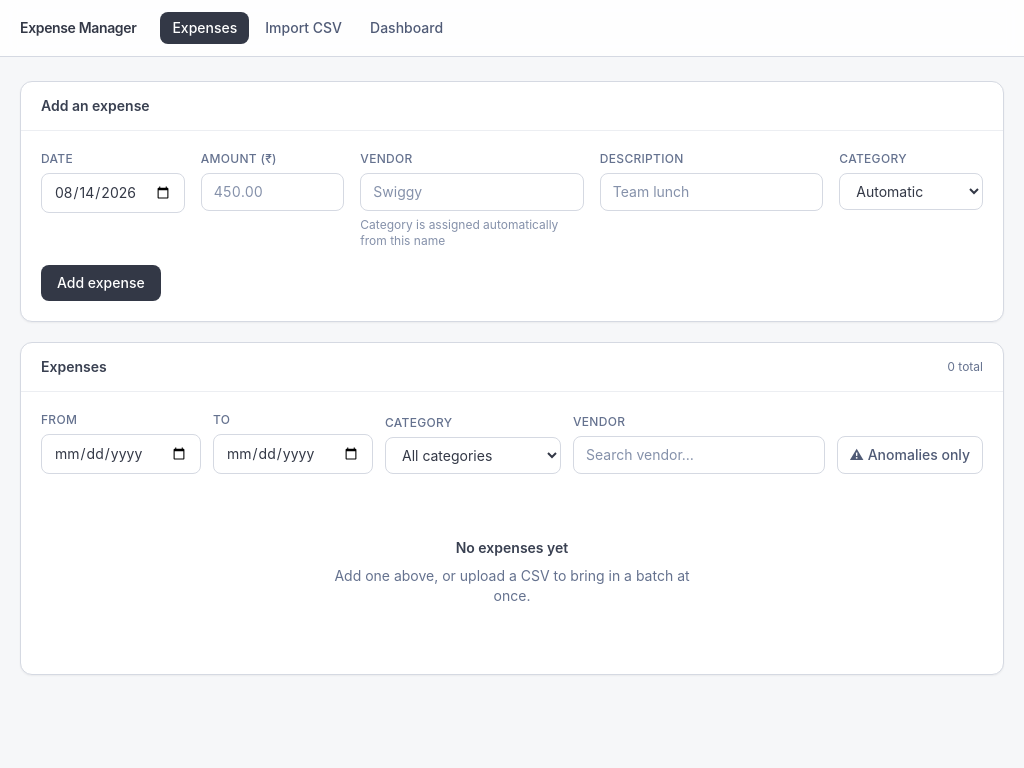
it: App › navigates to the import route
The image size is (1024, 768).
Click the link "Import CSV" at {"x": 304, "y": 28}, box [265,19,342,36]
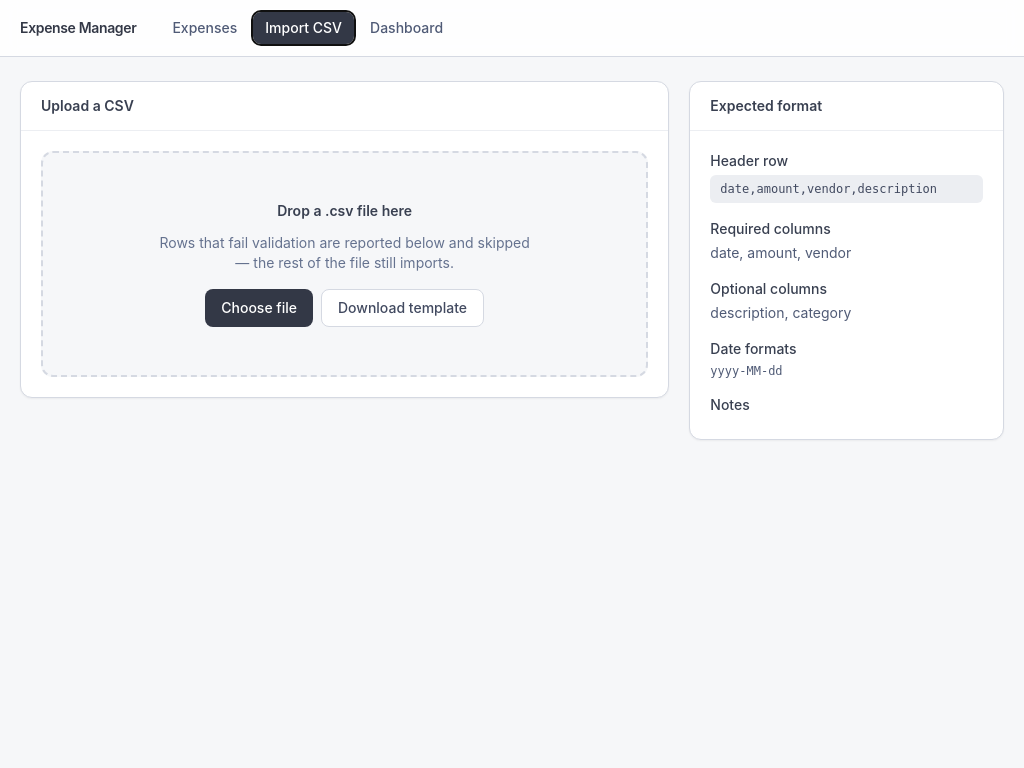
expect the text "Drop a .csv file here" is shown: met, box [277,201,412,221]
expect the heading "Expected format" is shown: met, box [710,96,822,116]
